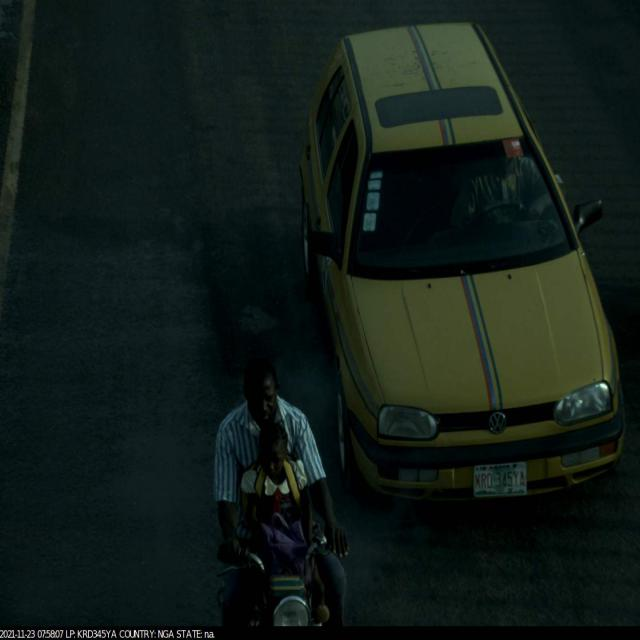windshield: (344, 130, 579, 287)
